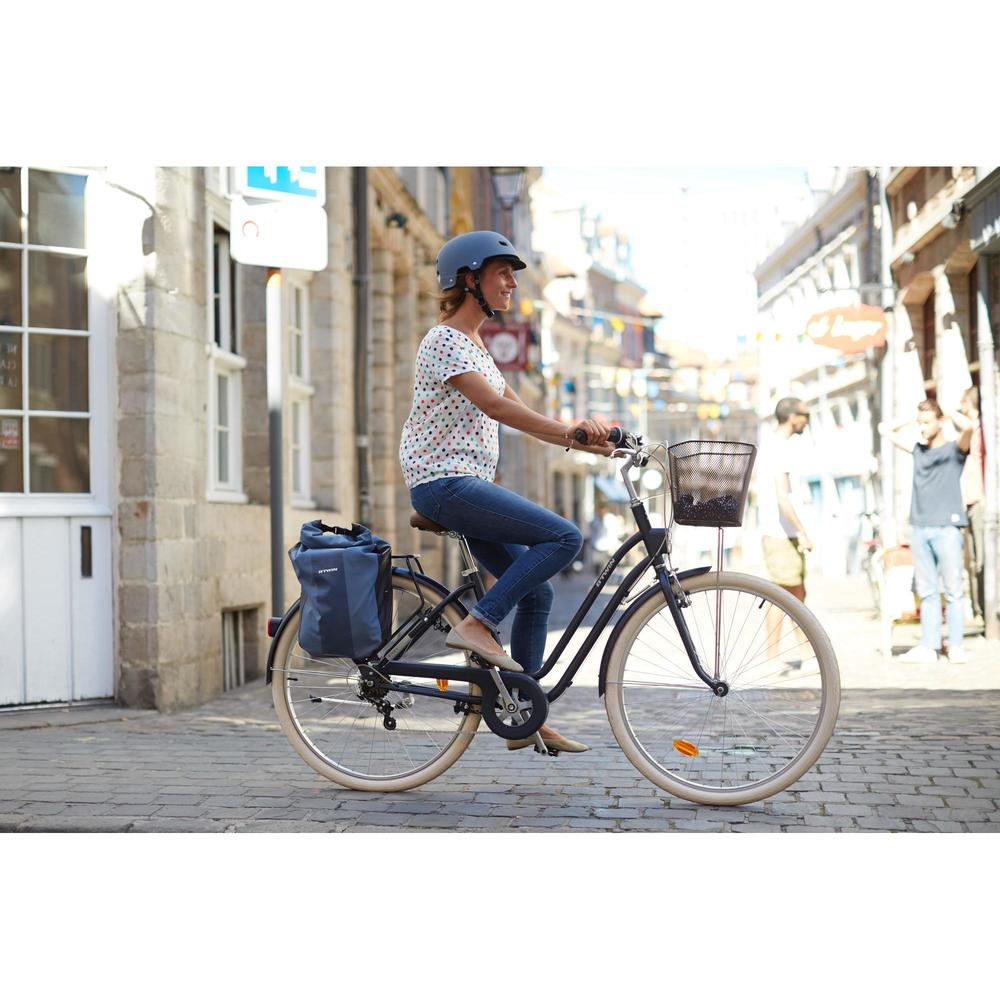UrbanBike: (254, 417, 862, 813)
